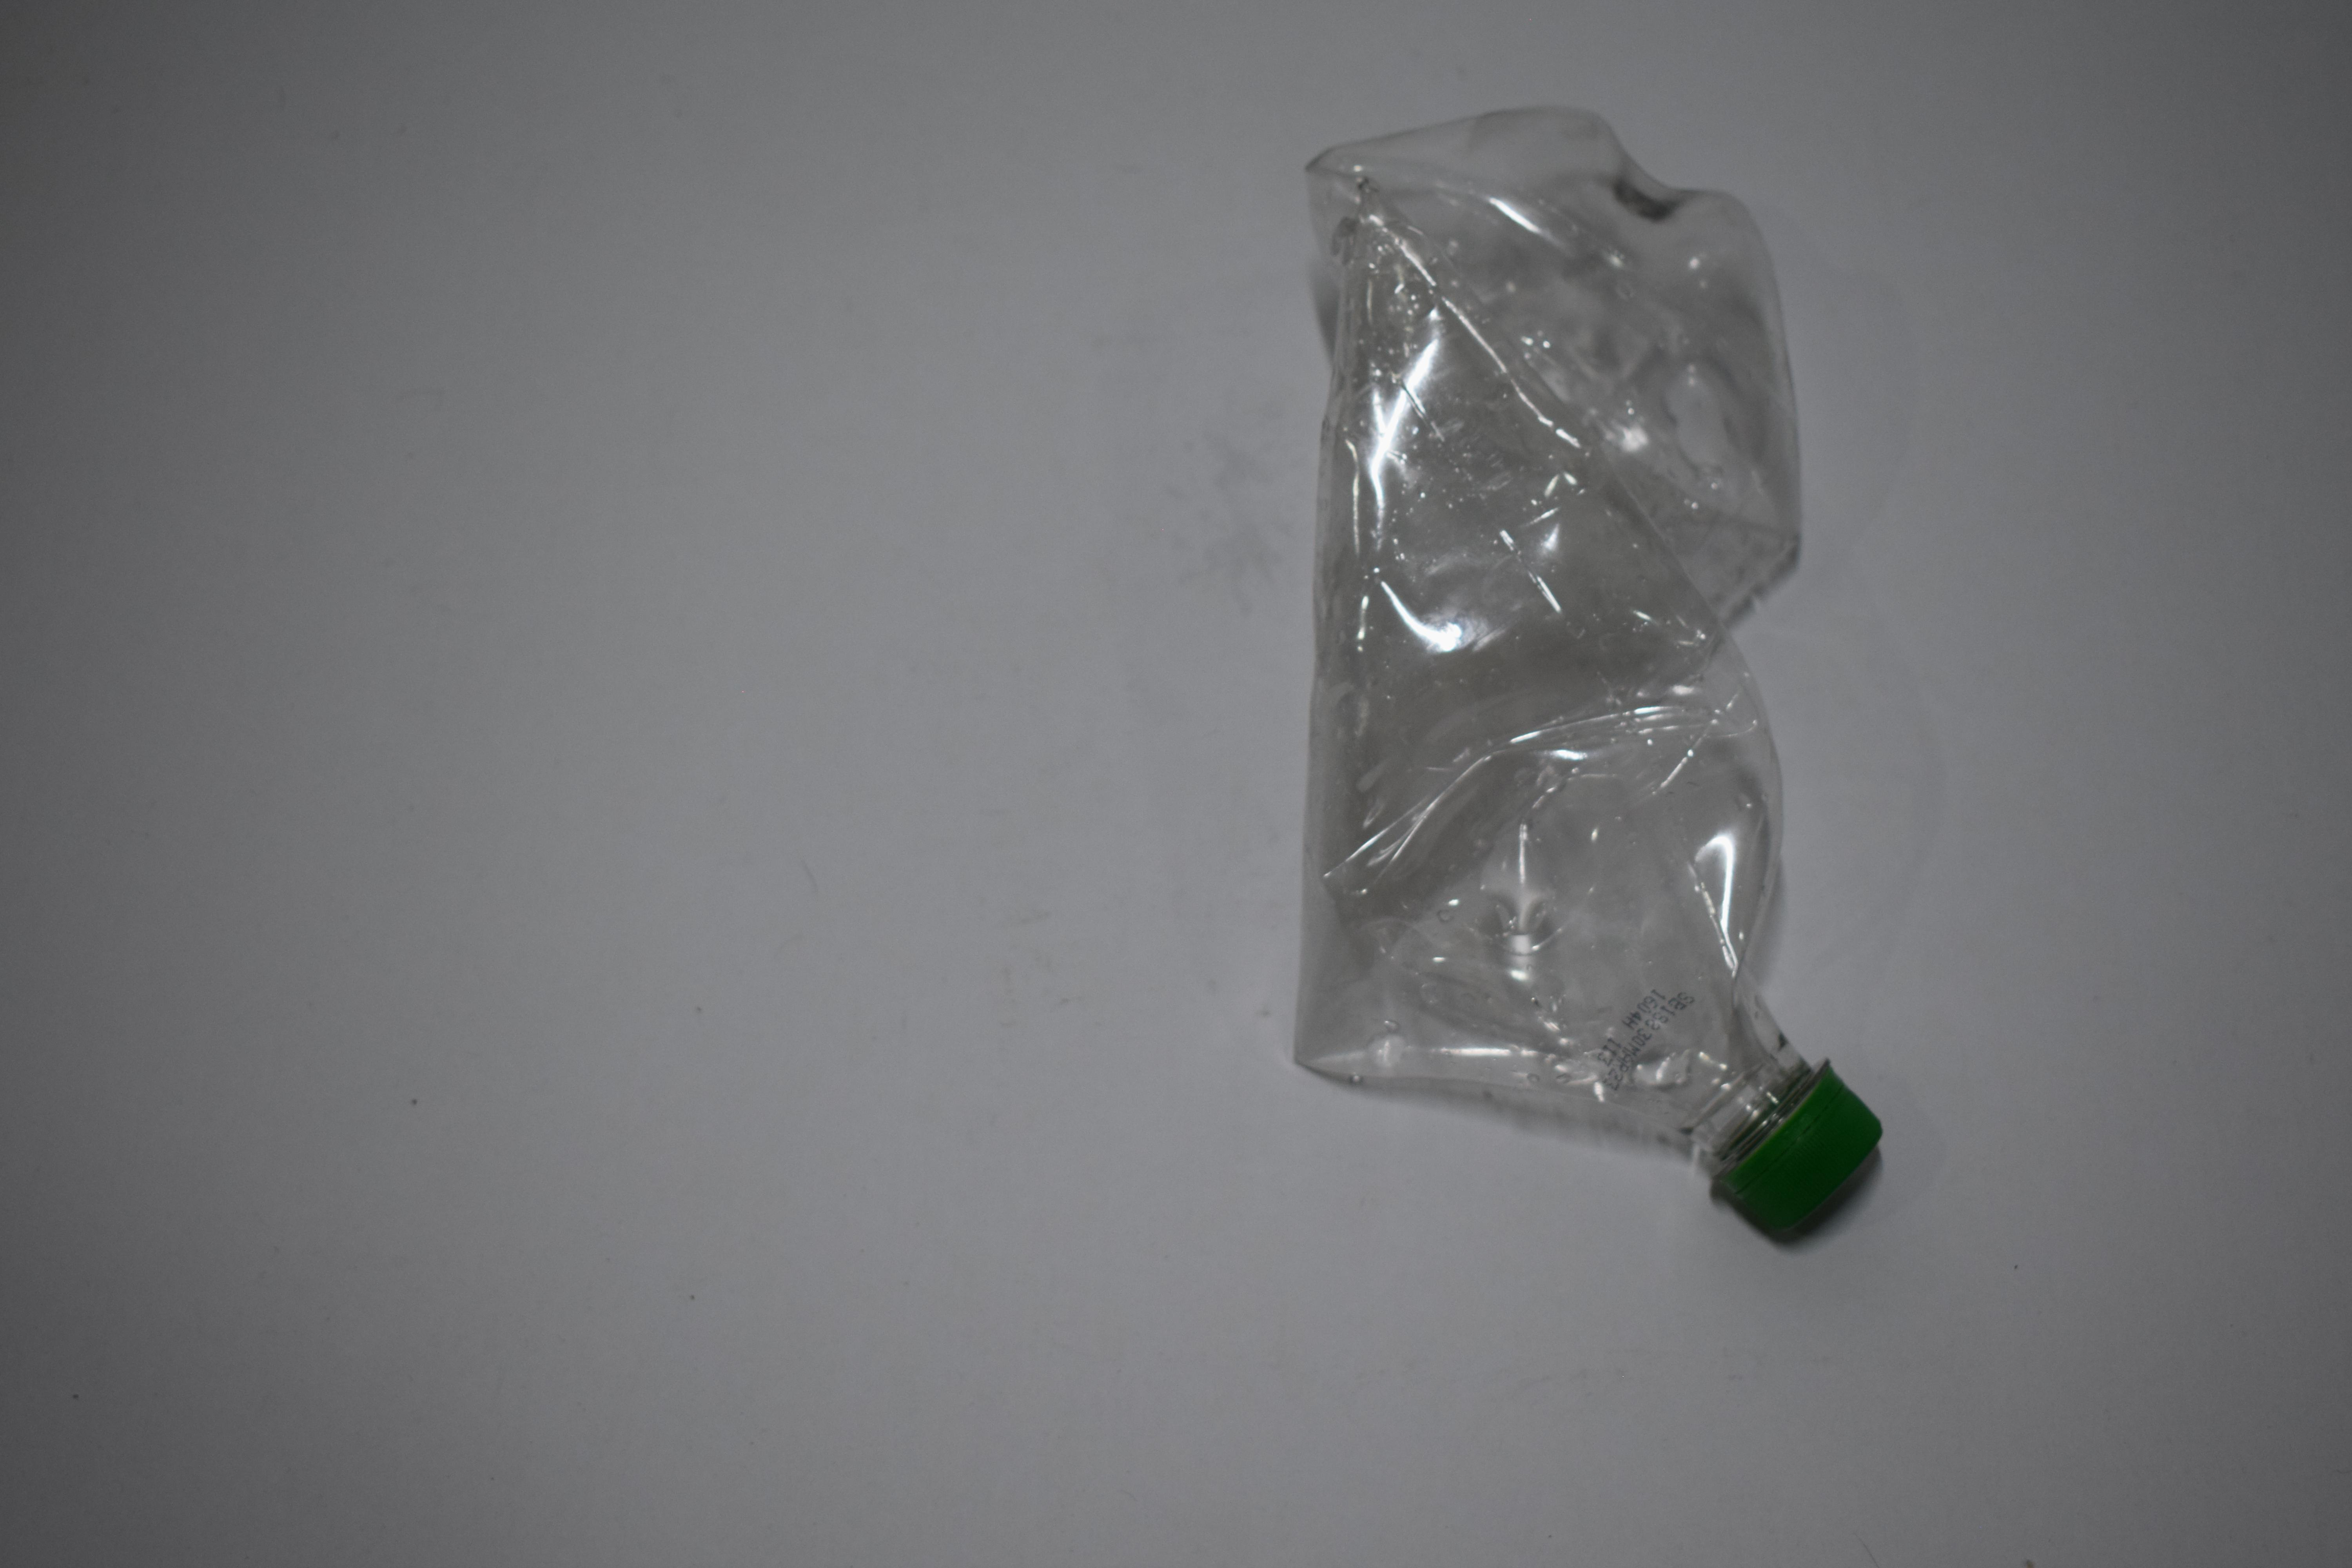bottle: (1333, 110, 1818, 1239)
